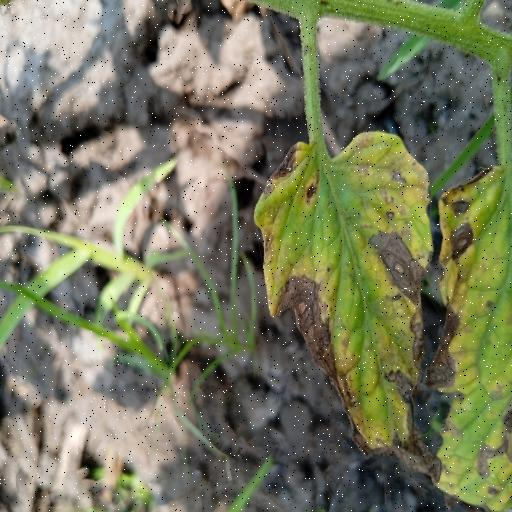Tomato_Brown_Spots: (254, 125, 437, 472)
